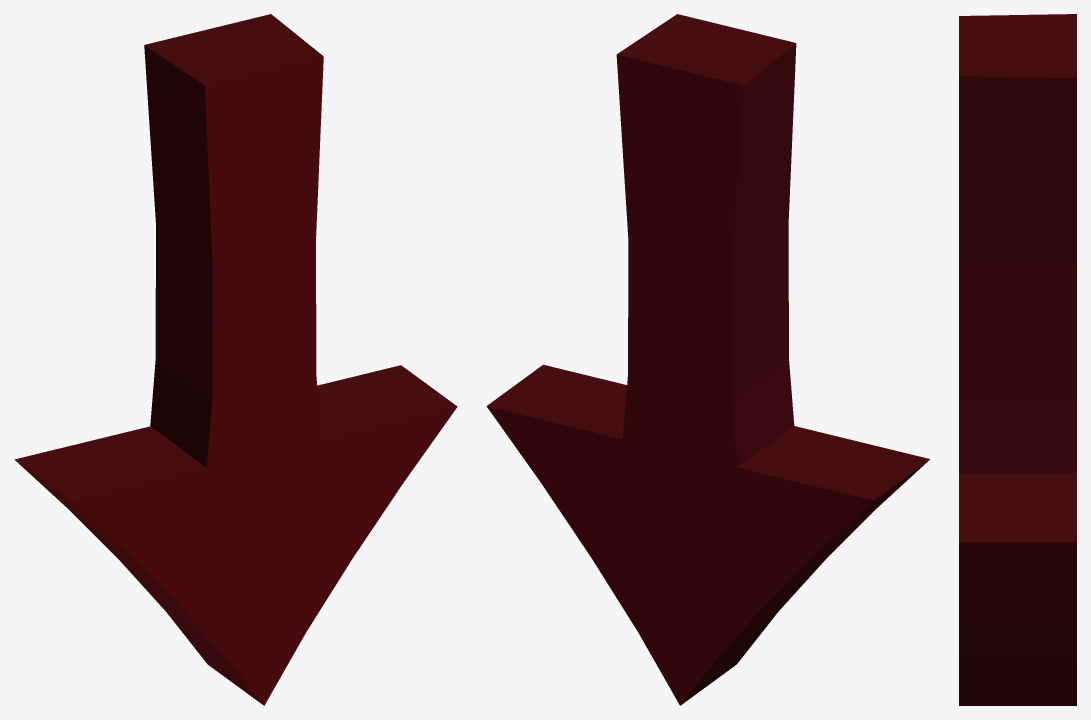
File: arrow01.fbx
The picture shows the model from 3 angles, left to right: view 1: azimuth 30°, elevation 25°; view 2: azimuth 150°, elevation 25°; view 3: azimuth 270°, elevation 25°; orthographic projection. The views are drawn at different scales.
Parts seen in each view (by area): view 1: polySurface1; view 2: polySurface1; view 3: polySurface1.
Boxes of the visible parts, bbox=[...] form: polySurface1: bbox=[14, 14, 457, 705]; polySurface1: bbox=[486, 14, 930, 705]; polySurface1: bbox=[959, 14, 1076, 705].
Size of the model in its own units: 4.14 by 6.5 by 1.05.
